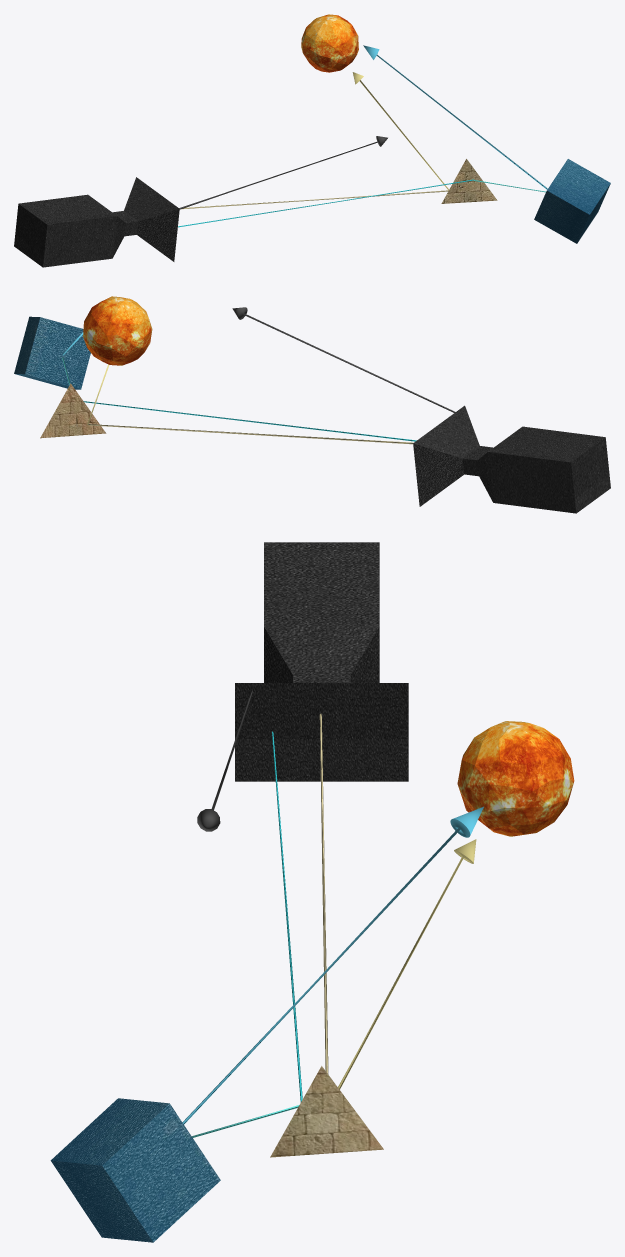
3 views of the same model, one above another, from view 1: azimuth 30°, elevation 25°; view 2: azimuth 150°, elevation 25°; view 3: azimuth 270°, elevation 25° (orthographic). The views are drawn at different scales.
Visible parts, largest first — view 1: Cube, Cube.001, Sphere, Plane, NurbsPath.005, NurbsPath.001, NurbsPath, NurbsPath.003; view 2: Cube, Cube.001, Sphere, Plane, NurbsPath.001, NurbsPath, NurbsPath.003; view 3: Cube, Cube.001, Sphere, Plane, NurbsPath.005, NurbsPath.001, NurbsPath.002, NurbsPath.003.
Boxes of the visible parts, x1,y1,x2,y2 form: Cube: (14, 177, 179, 267); Cube.001: (534, 159, 610, 243); Sphere: (301, 14, 358, 72); Plane: (441, 159, 497, 203); NurbsPath.005: (363, 45, 547, 189); NurbsPath.001: (181, 190, 448, 209); NurbsPath: (179, 136, 387, 209); NurbsPath.003: (178, 179, 473, 227); Cube: (413, 405, 610, 513); Cube.001: (14, 316, 90, 389); Sphere: (83, 296, 152, 365); Plane: (40, 383, 106, 438); NurbsPath.001: (88, 424, 413, 444); NurbsPath: (232, 307, 455, 412); NurbsPath.003: (83, 401, 416, 441); Cube: (235, 542, 408, 781); Cube.001: (50, 1098, 220, 1242); Sphere: (457, 721, 574, 836); Plane: (270, 1066, 383, 1157); NurbsPath.005: (182, 806, 483, 1124); NurbsPath.001: (319, 714, 328, 1074); NurbsPath.002: (338, 839, 476, 1089); NurbsPath.003: (272, 731, 302, 1102).
Bounding box in the file's own units: 21.04 × 7.08 × 9.05.
10 materials, 4 textured.
